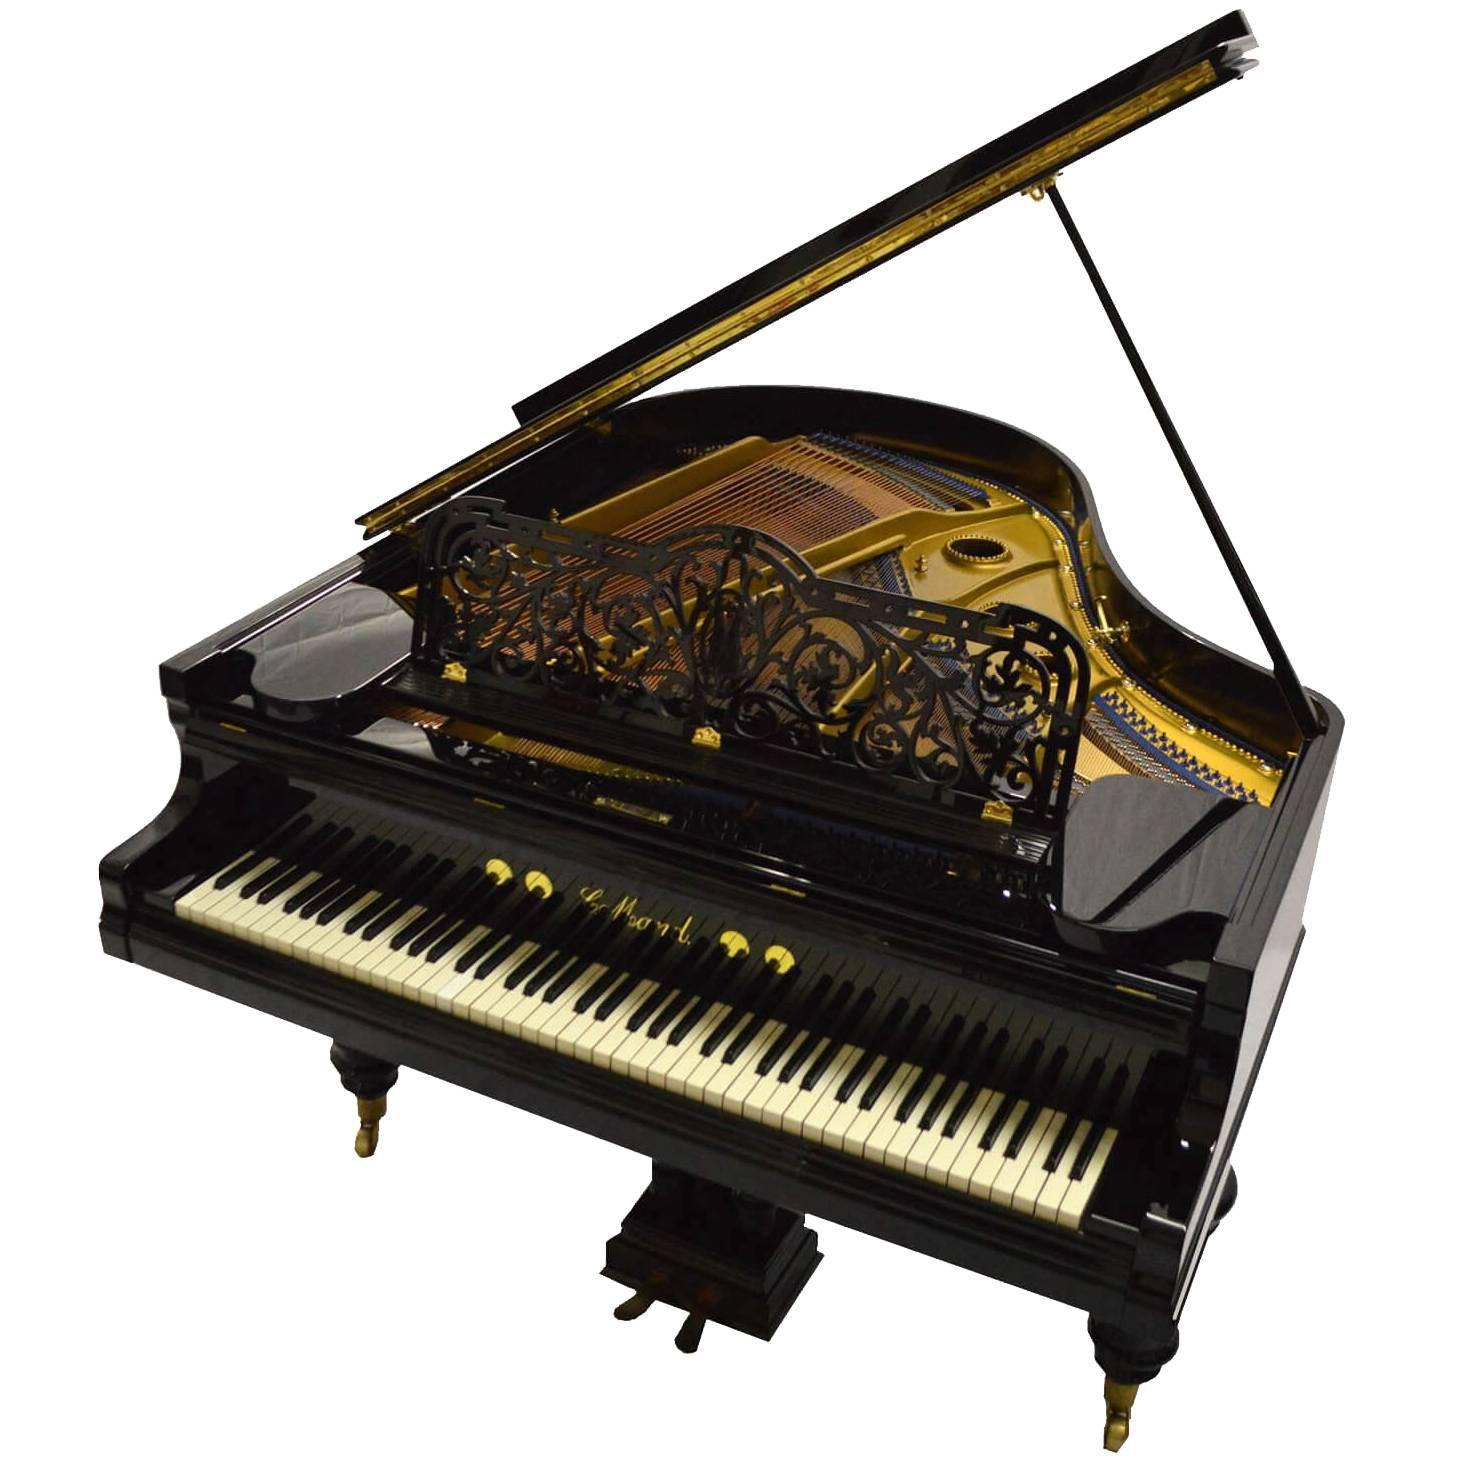GrandPiano: (66, 75, 1383, 1184)
